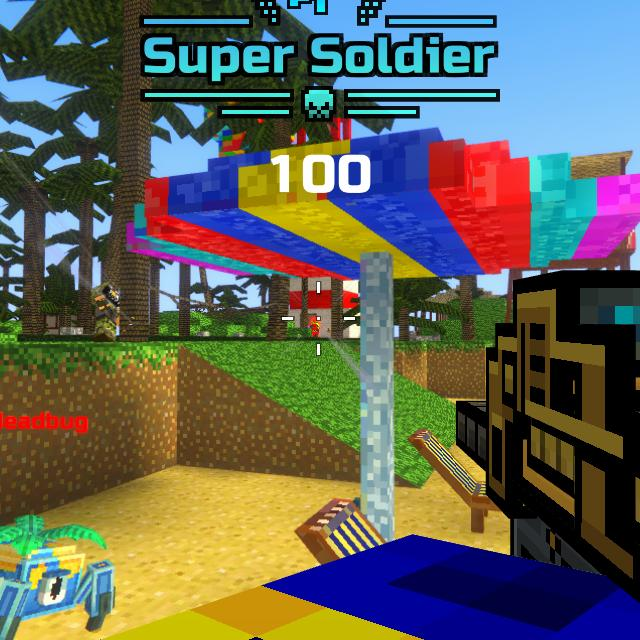Enemy: (312, 319, 319, 334)
